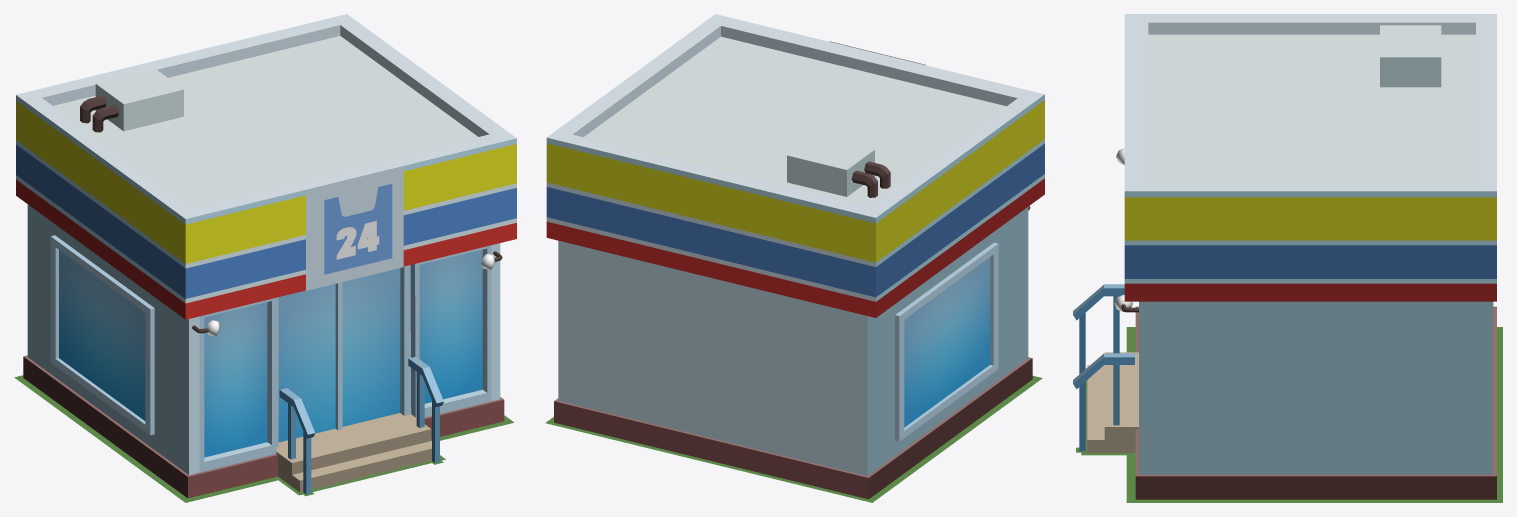
Rendered from bg_poi_012.fbx.
The picture shows the model from 3 angles, left to right: view 1: azimuth 30°, elevation 25°; view 2: azimuth 150°, elevation 25°; view 3: azimuth 270°, elevation 25°; orthographic projection. The views are drawn at different scales.
Parts seen in each view (by area): view 1: ministop; view 2: ministop; view 3: ministop.
Part boxes in pixels (left/top/right/bottom): ministop: left=14, top=14, right=516, bottom=502; ministop: left=545, top=14, right=1044, bottom=502; ministop: left=1073, top=14, right=1502, bottom=502.
Bounding box in the file's own units: 973 × 846 × 998.
